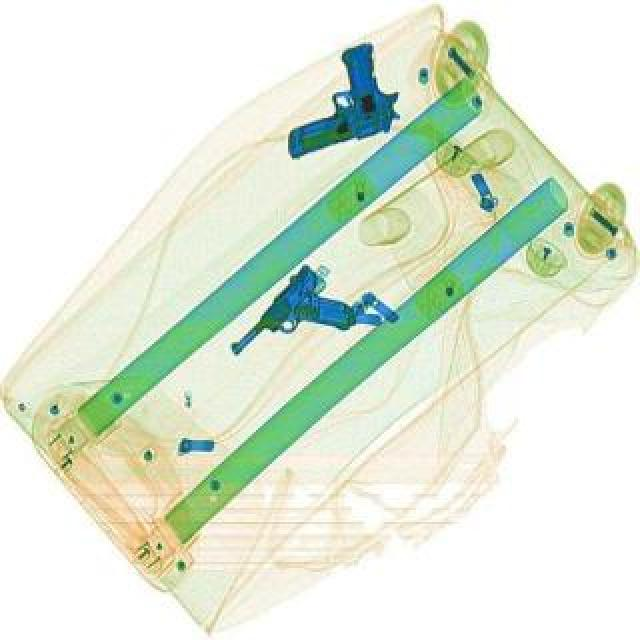gun: (258, 34, 410, 160), (222, 262, 366, 394)
